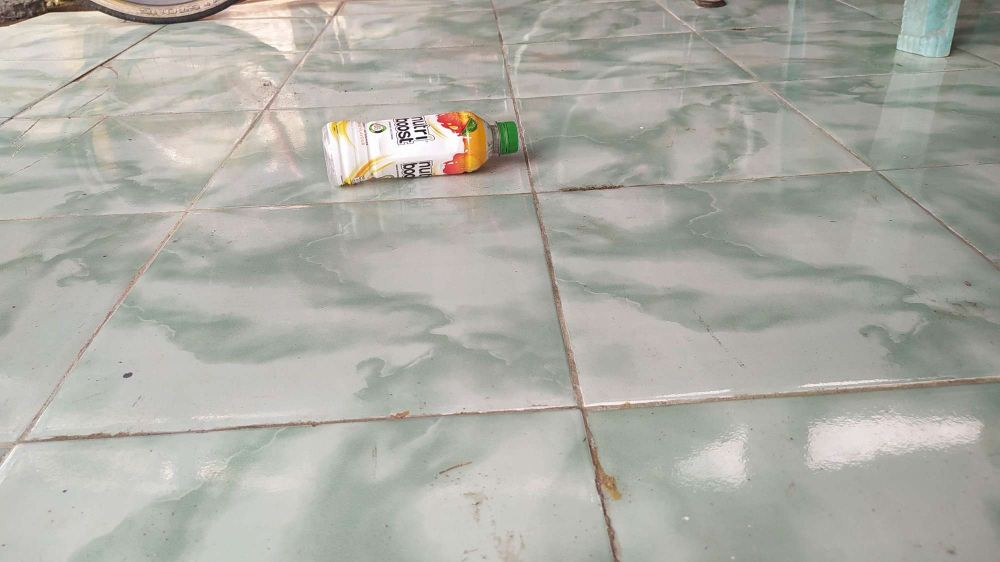botol: (308, 103, 526, 199)
